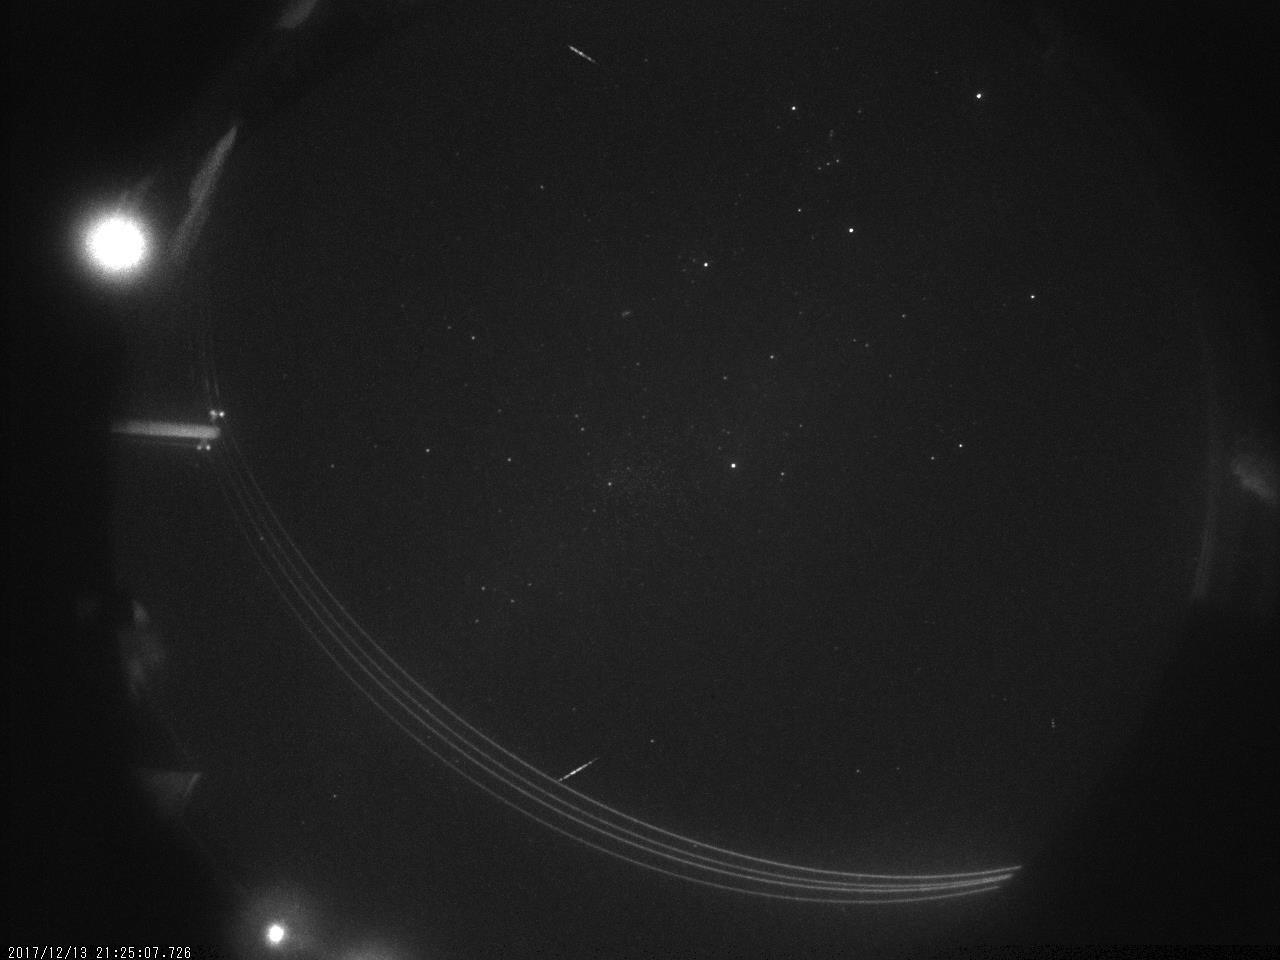Meteor: (552, 750, 602, 791), (562, 40, 602, 73)
